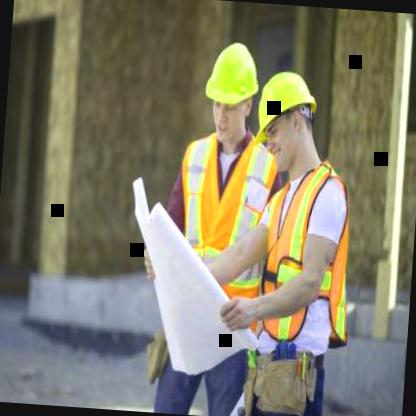helmet: (193, 30, 264, 162), (252, 56, 328, 176)
